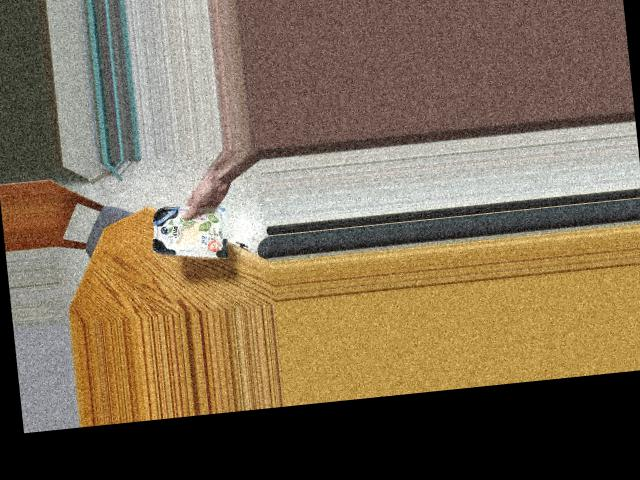cheese: (150, 191, 230, 266)
